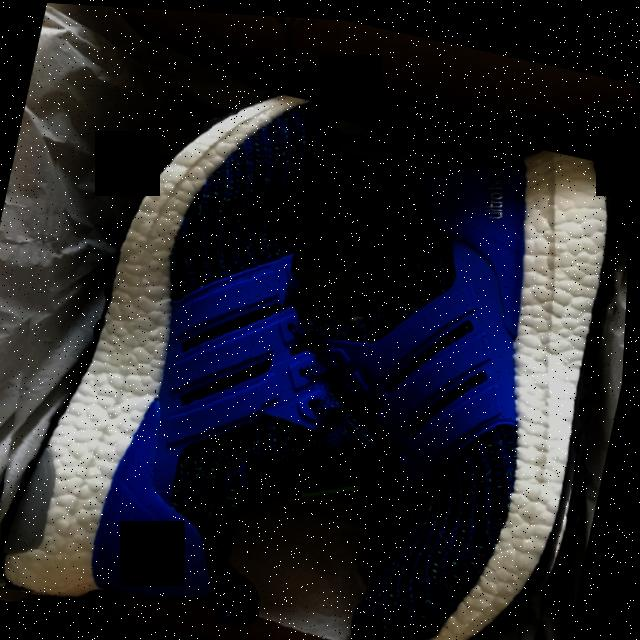shoe: (0, 45, 459, 640), (217, 93, 637, 640)
